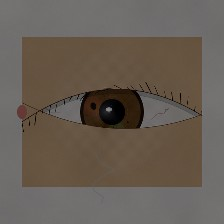foreign_body_visible: (74, 91, 112, 121)
